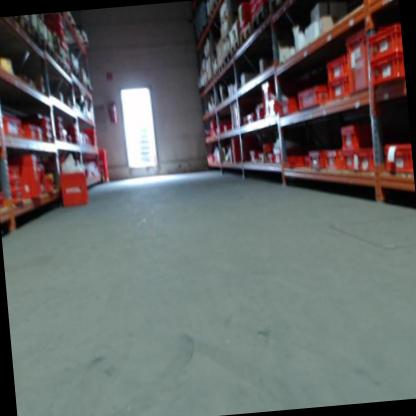pallet: (250, 3, 271, 33), (267, 0, 296, 17), (13, 15, 32, 40), (31, 27, 47, 52), (239, 22, 254, 47), (43, 41, 55, 60), (231, 40, 242, 56), (225, 52, 233, 67), (213, 0, 221, 10), (212, 70, 219, 80), (219, 62, 225, 72), (208, 76, 214, 85)
small_load_carrier: (343, 24, 374, 97), (11, 154, 43, 200), (363, 20, 402, 57), (368, 52, 404, 87), (59, 170, 90, 210), (382, 139, 414, 177), (337, 118, 375, 148), (296, 82, 328, 109), (323, 51, 351, 79), (324, 76, 353, 102), (1, 114, 24, 141), (355, 148, 376, 172), (278, 98, 300, 118), (342, 148, 360, 171), (324, 148, 342, 169), (34, 169, 46, 199), (285, 154, 303, 173), (308, 150, 326, 168), (32, 125, 47, 145), (24, 123, 37, 144), (8, 190, 25, 205), (5, 164, 18, 180), (42, 179, 53, 197), (40, 131, 55, 144), (8, 178, 21, 190), (41, 122, 54, 133), (40, 112, 51, 123)
